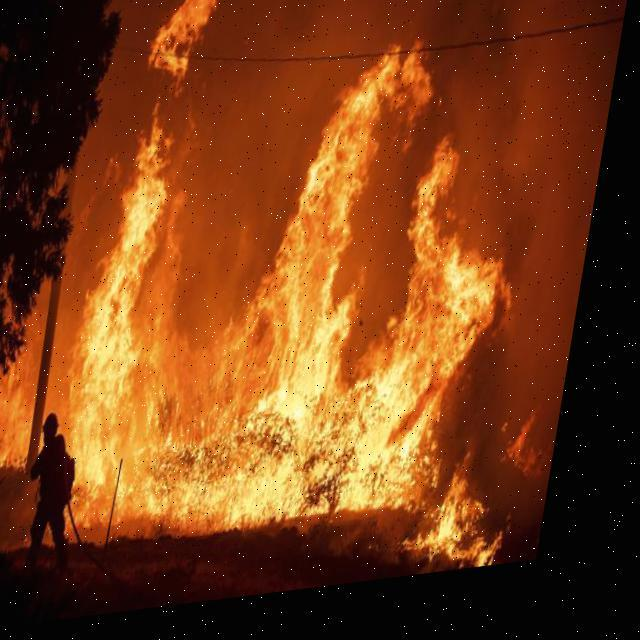Fire: (50, 0, 604, 620)
